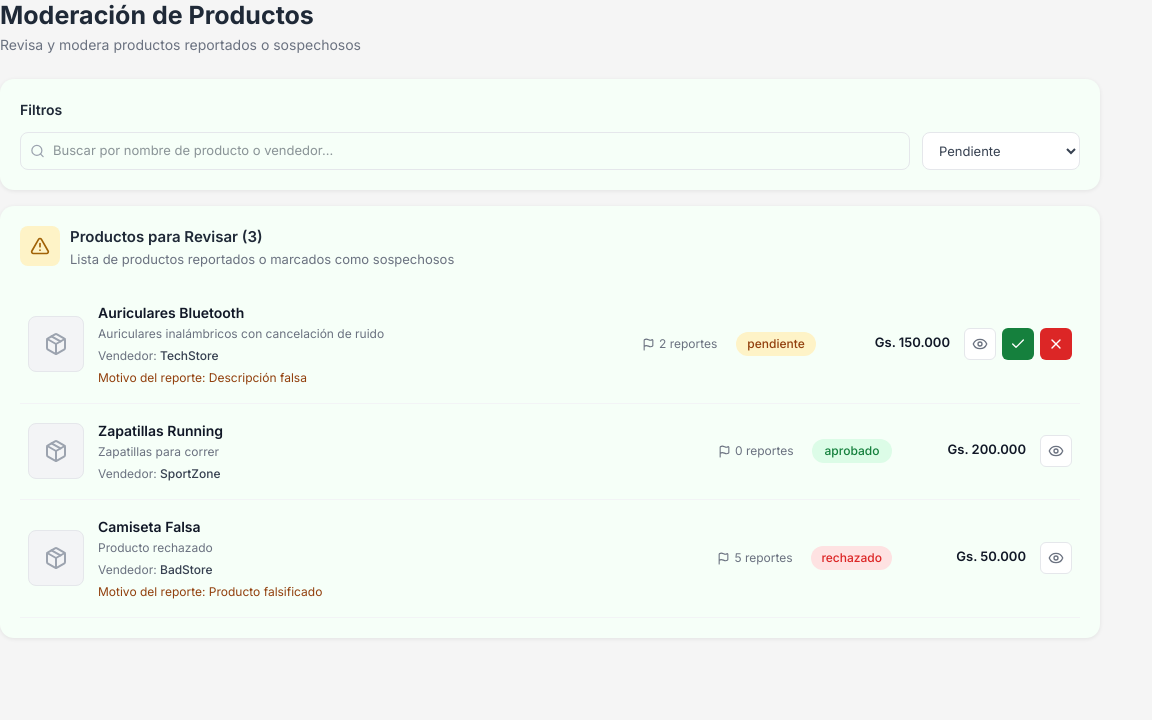
Test: AdminProductsPage › abre el modal de detalle al hacer clic en el botón de ojo
Expected: the text "Auriculares Bluetooth" is shown, [98,304,244,320]
Click the button titled "Ver detalle" next to "150.000" at point(980, 344), box [964,328,996,360]
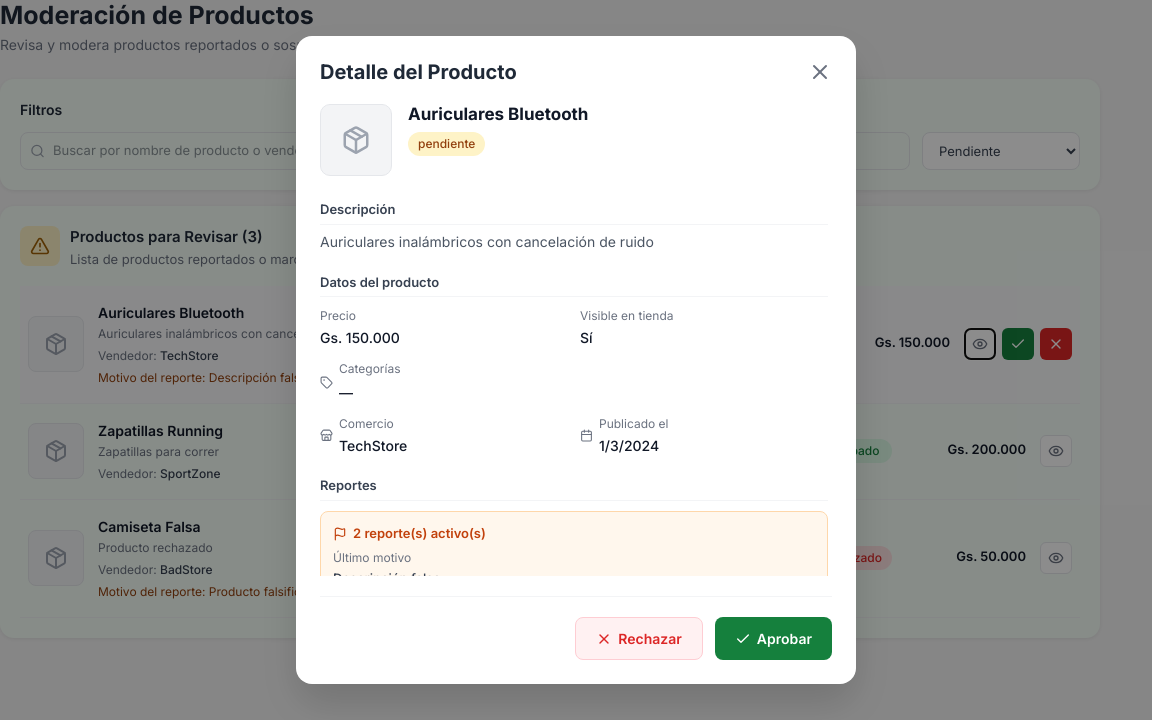
Expected: the text "Auriculares inalámbricos con cancelación de ruido" below "Productos para Revisar (" is shown, [98,326,384,340]
Expected: the heading "Detalle del Producto" is shown, [320,60,517,84]
